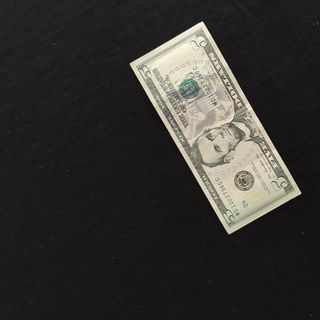5USDFront: (128, 19, 303, 235)
